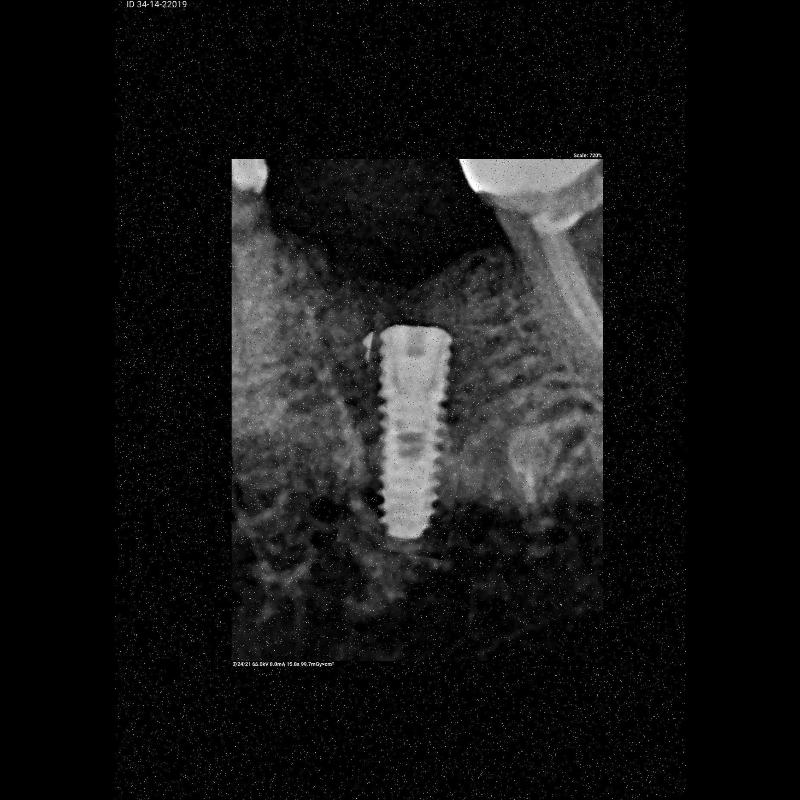osstem: (346, 316, 474, 556)
